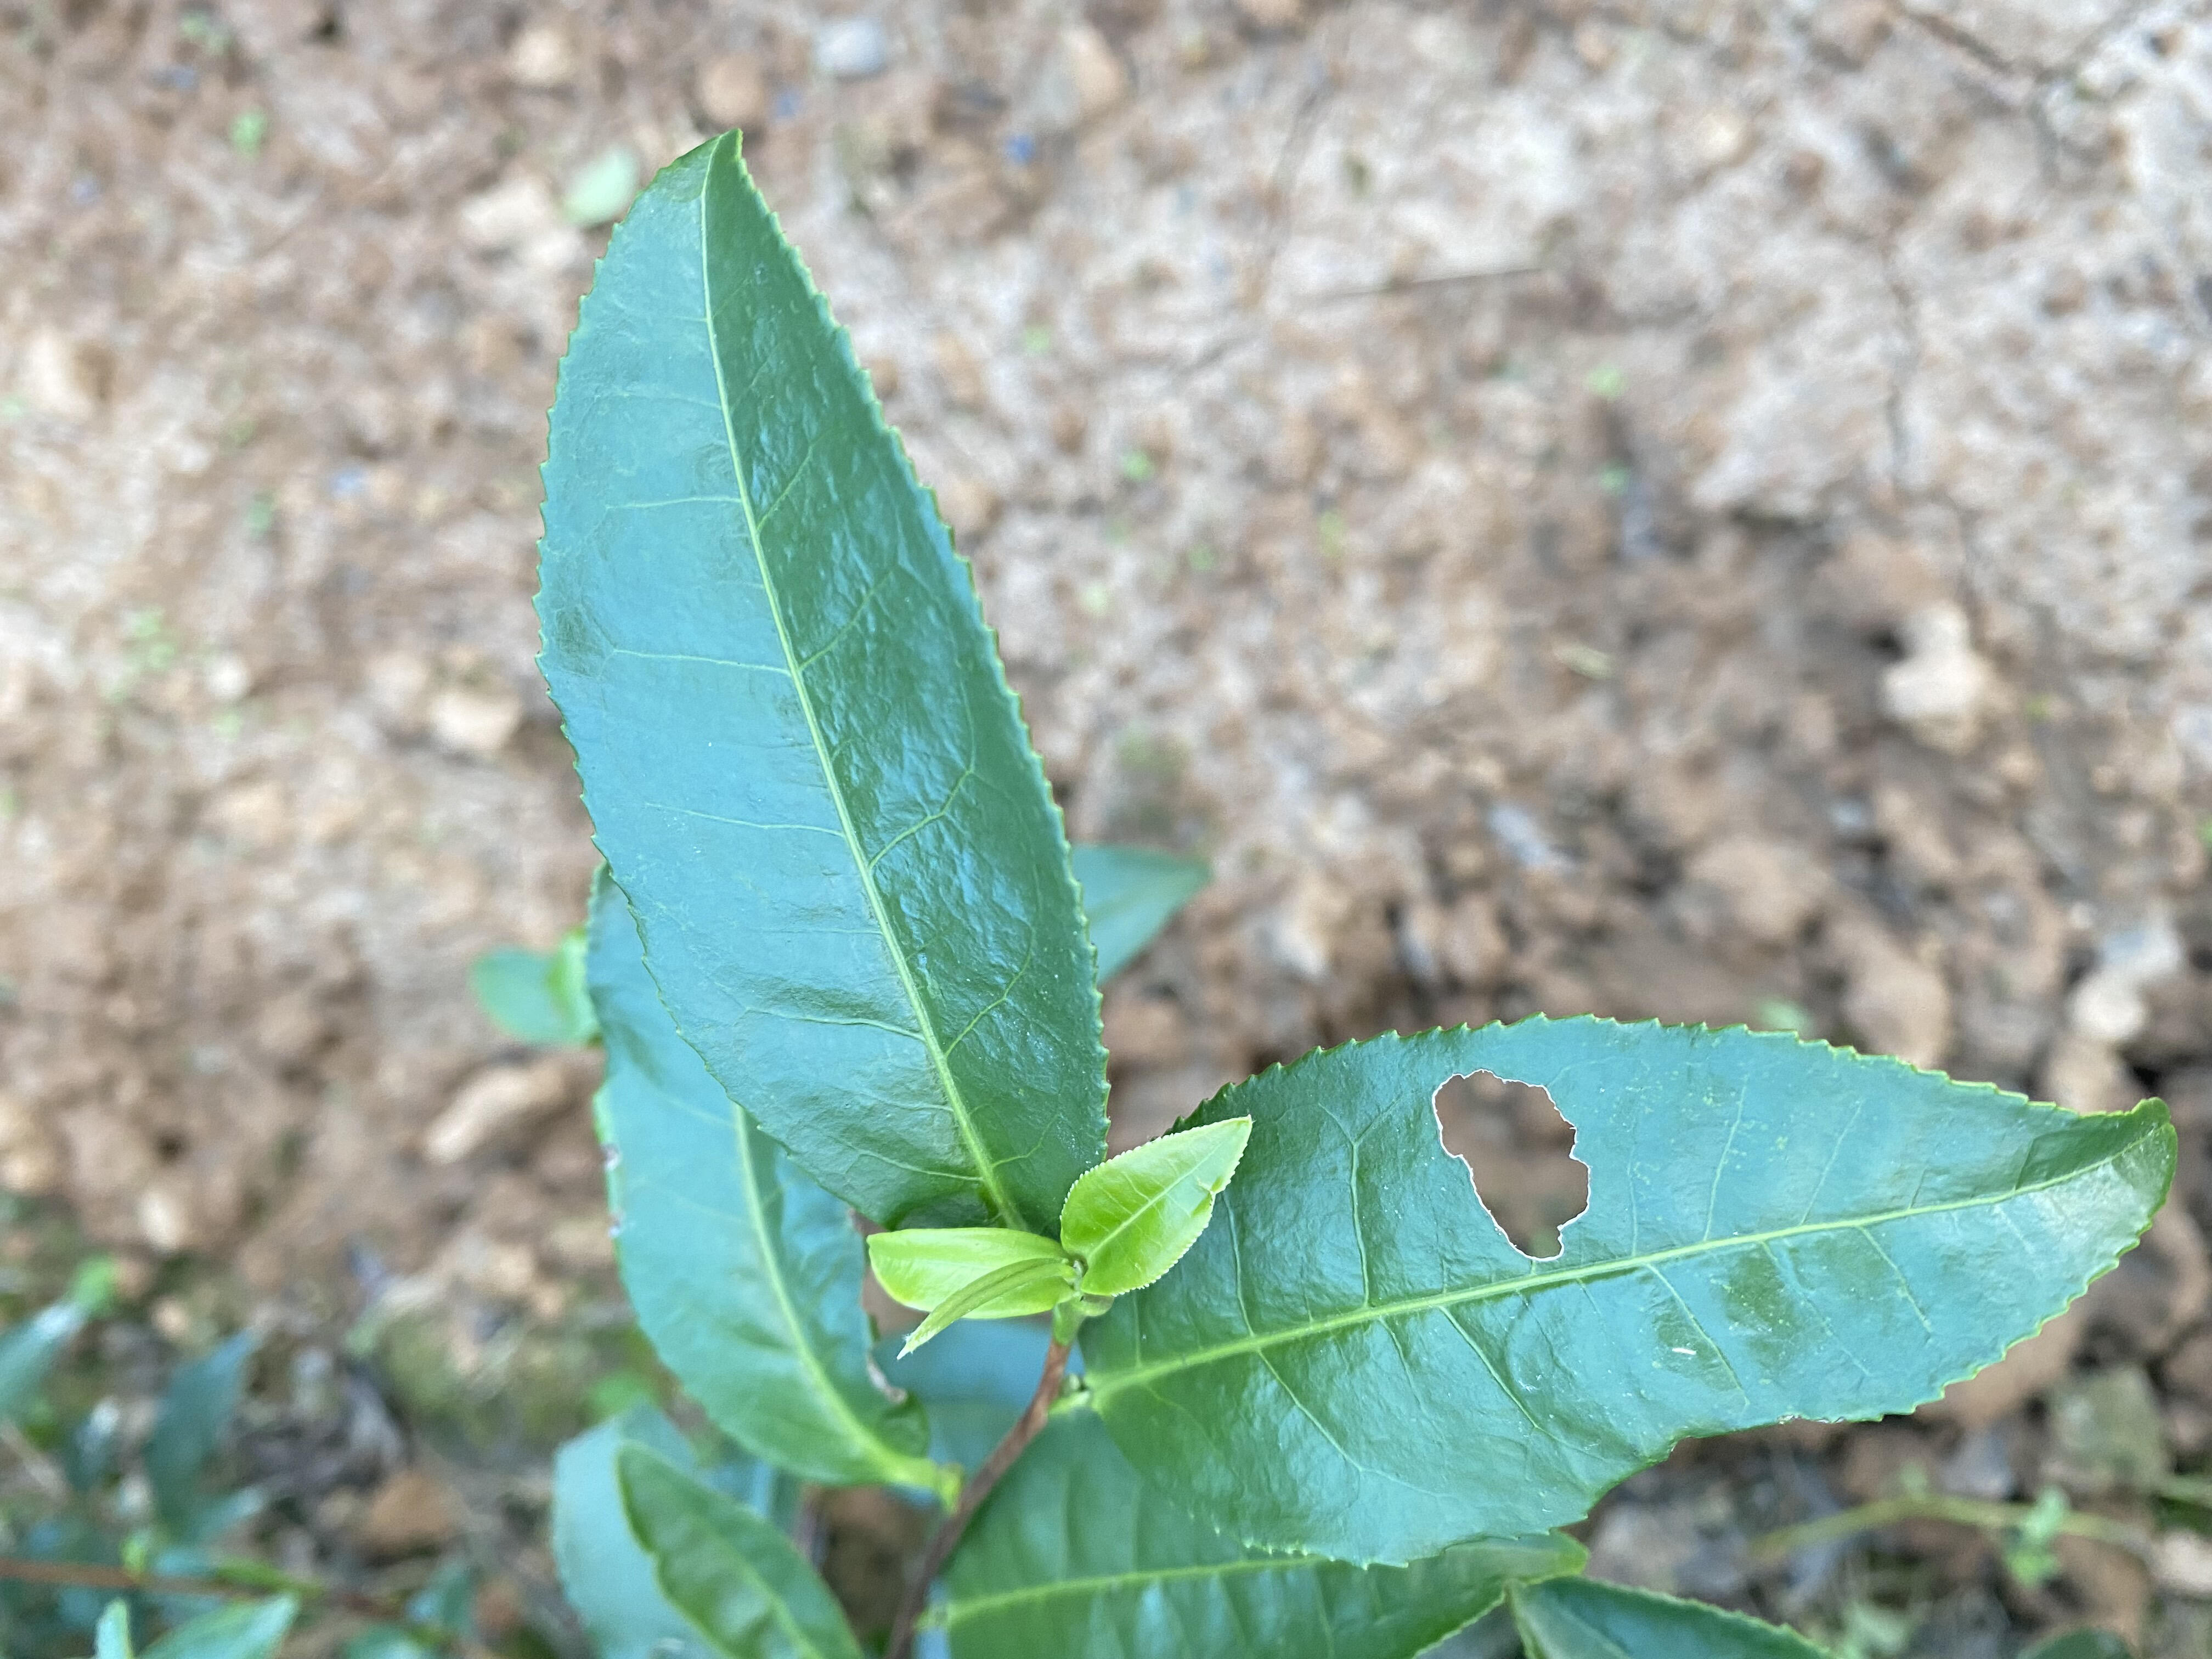chihuo_low: (1078, 1012, 2179, 1575)
healthy: (531, 125, 1109, 1237), (1061, 1117, 1252, 1295), (867, 1223, 1066, 1319)
